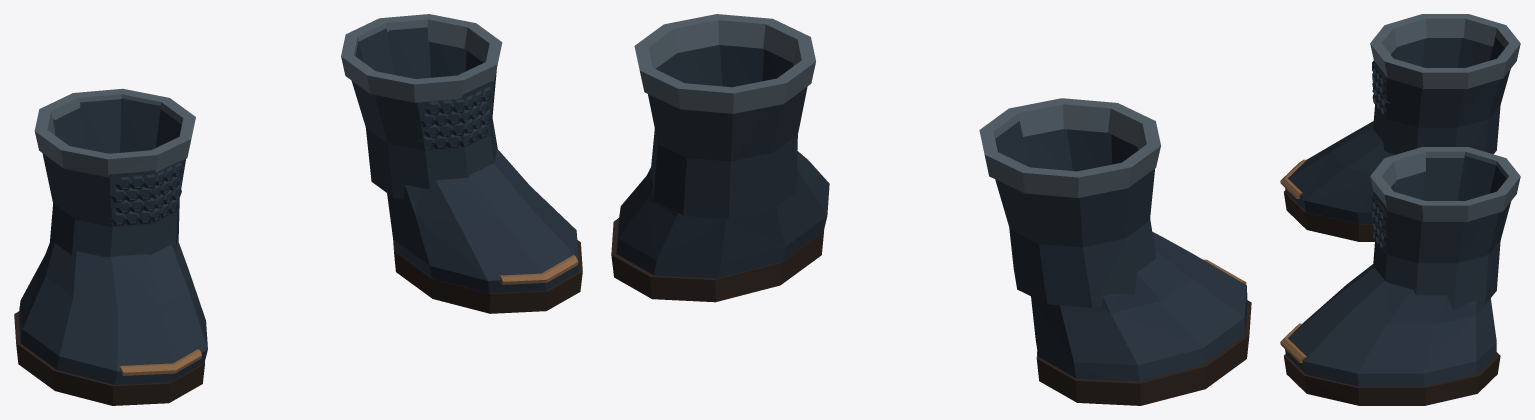
File: ring_feet-female.glb
3 views of the same model, side by side, from view 1: azimuth 30°, elevation 25°; view 2: azimuth 150°, elevation 25°; view 3: azimuth 270°, elevation 25° (orthographic). The views are drawn at different scales.
Visible parts, largest first — view 1: ring boot foot -1, ring boot foot 1, ring boot upper -1, ring boot upper 1, Turned boot cuff 1, Turned boot cuff -1, Boot sole -1, Boot sole 1, ring woven coverage on ring boot upper 1, ring woven coverage on ring boot upper -1, Boot toe welt -1, Boot toe welt 1; view 2: ring boot upper -1, ring boot upper 1, ring boot foot -1, ring boot foot 1, Turned boot cuff 1, Turned boot cuff -1, Boot sole -1, Boot sole 1; view 3: ring boot foot 1, ring boot upper 1, ring boot upper -1, Turned boot cuff -1, ring boot foot -1, Turned boot cuff 1, Boot sole 1, Boot sole -1, ring woven coverage on ring boot upper -1, ring woven coverage on ring boot upper 1, Boot toe welt 1, Boot toe welt -1.
Boxes of the visible parts, <box> form: ring boot foot -1: <box>18,240,207,384</box>; ring boot foot 1: <box>387,148,579,293</box>; ring boot upper -1: <box>42,98,185,257</box>; ring boot upper 1: <box>351,27,497,199</box>; Turned boot cuff 1: <box>341,14,502,102</box>; Turned boot cuff -1: <box>34,88,195,177</box>; Boot sole -1: <box>14,311,204,405</box>; Boot sole 1: <box>393,239,582,313</box>; ring woven coverage on ring boot upper 1: <box>415,86,492,149</box>; ring woven coverage on ring boot upper -1: <box>109,162,183,225</box>; Boot toe welt -1: <box>119,349,201,375</box>; Boot toe welt 1: <box>499,255,578,284</box>; ring boot upper -1: <box>994,121,1156,307</box>; ring boot upper 1: <box>648,45,807,218</box>; ring boot foot -1: <box>1031,232,1247,381</box>; ring boot foot 1: <box>616,151,829,278</box>; Turned boot cuff 1: <box>634,14,815,113</box>; Turned boot cuff -1: <box>979,98,1160,197</box>; Boot sole -1: <box>1036,300,1251,405</box>; Boot sole 1: <box>611,218,824,302</box>; ring boot foot 1: <box>1285,264,1496,386</box>; ring boot upper 1: <box>1373,156,1510,310</box>; ring boot upper -1: <box>1373,35,1510,154</box>; Turned boot cuff -1: <box>1370,14,1520,88</box>; ring boot foot -1: <box>1285,121,1395,223</box>; Turned boot cuff 1: <box>1370,147,1520,221</box>; Boot sole 1: <box>1284,352,1500,405</box>; Boot sole -1: <box>1284,190,1374,241</box>; ring woven coverage on ring boot upper -1: <box>1372,61,1390,116</box>; ring woven coverage on ring boot upper 1: <box>1371,195,1387,250</box>; Boot toe welt 1: <box>1280,323,1306,362</box>; Boot toe welt -1: <box>1280,159,1306,198</box>.
Bounding box in the file's own units: 2.67 × 0.9949 × 1.19.
